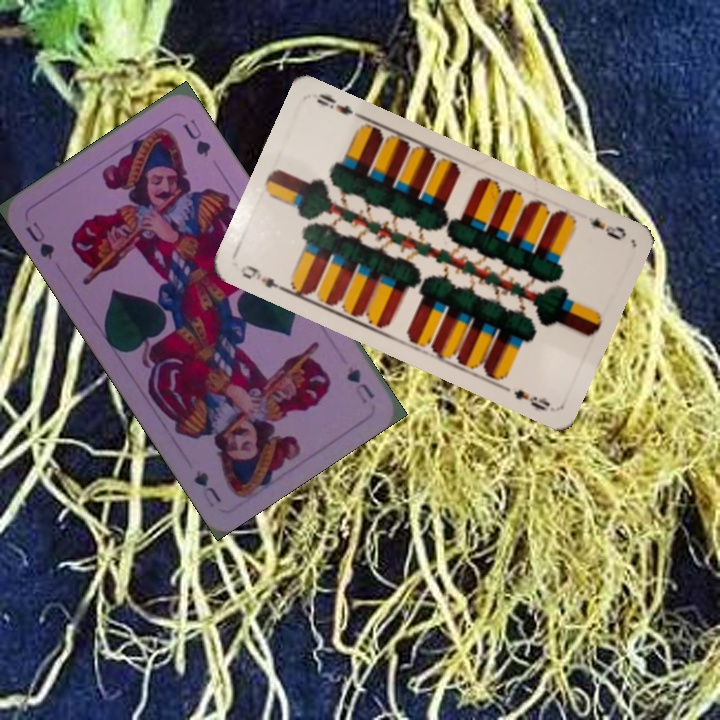E9: (236, 260, 289, 295), (584, 212, 630, 243)
GU: (21, 217, 58, 262), (342, 362, 377, 407)
